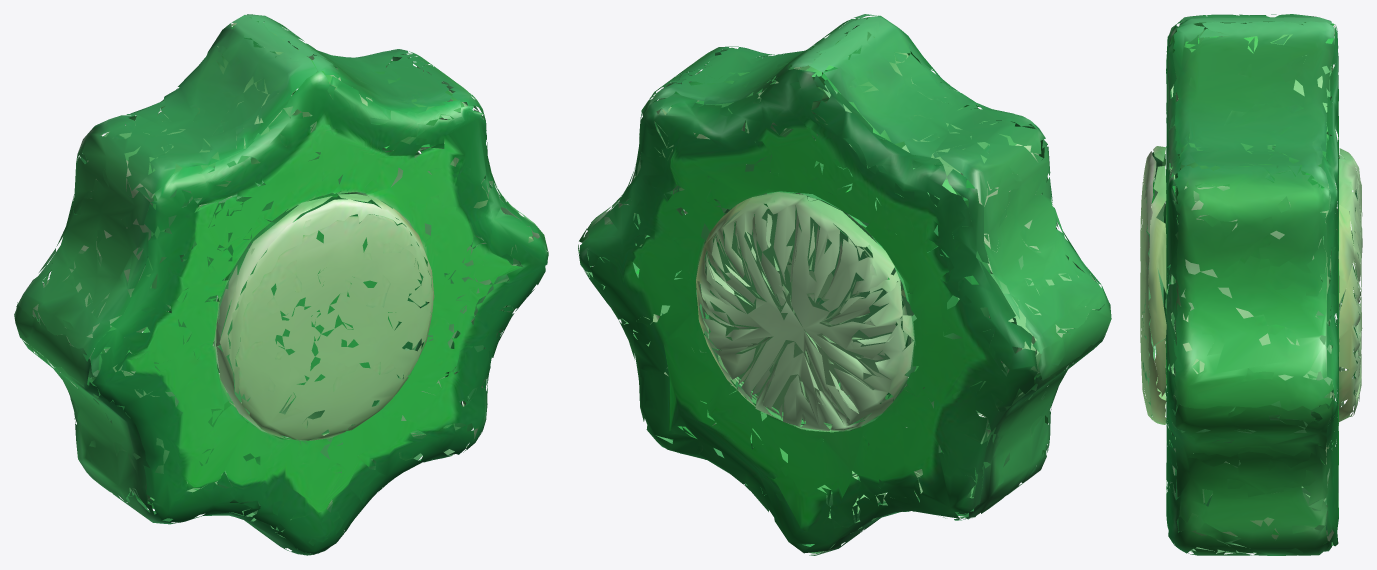
File: cactus.glb
3 renders of one model, left to right at view 1: azimuth 30°, elevation 25°; view 2: azimuth 150°, elevation 25°; view 3: azimuth 270°, elevation 25°, orthographic. The views are drawn at different scales.
Size of the model in its own units: 0.0801 by 0.08 by 0.0306.
1 material, 1 textured.
